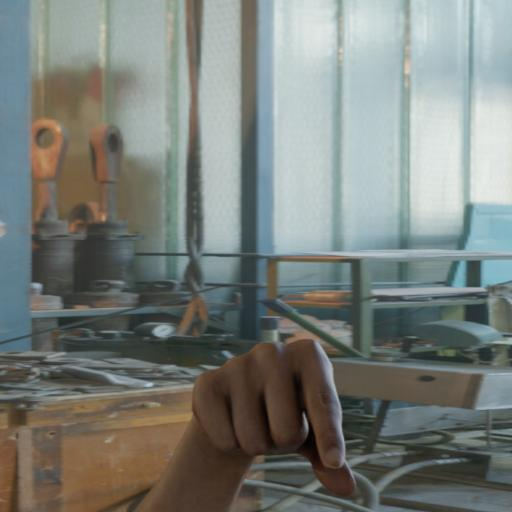Q: (169, 325, 375, 500)
